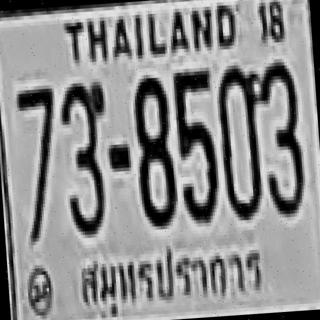N00: (214, 62, 267, 216)
N03: (57, 78, 112, 236), (256, 58, 305, 215)
N05: (170, 67, 219, 221)
N07: (14, 85, 62, 242), (14, 85, 61, 222), (14, 85, 58, 188)
N08: (130, 75, 176, 226)
P57: (74, 232, 268, 320)
